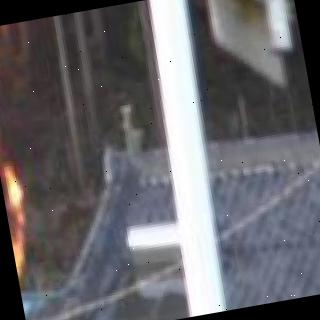fire: (0, 26, 41, 291)
